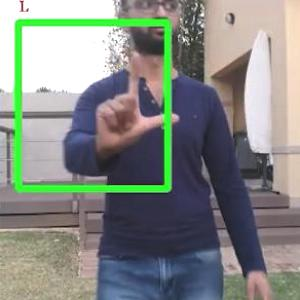land_hand: (88, 44, 188, 161)
